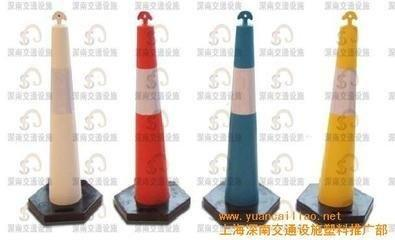cone_barrel: (311, 16, 365, 217), (214, 16, 265, 217), (39, 9, 89, 209), (127, 15, 167, 217)
